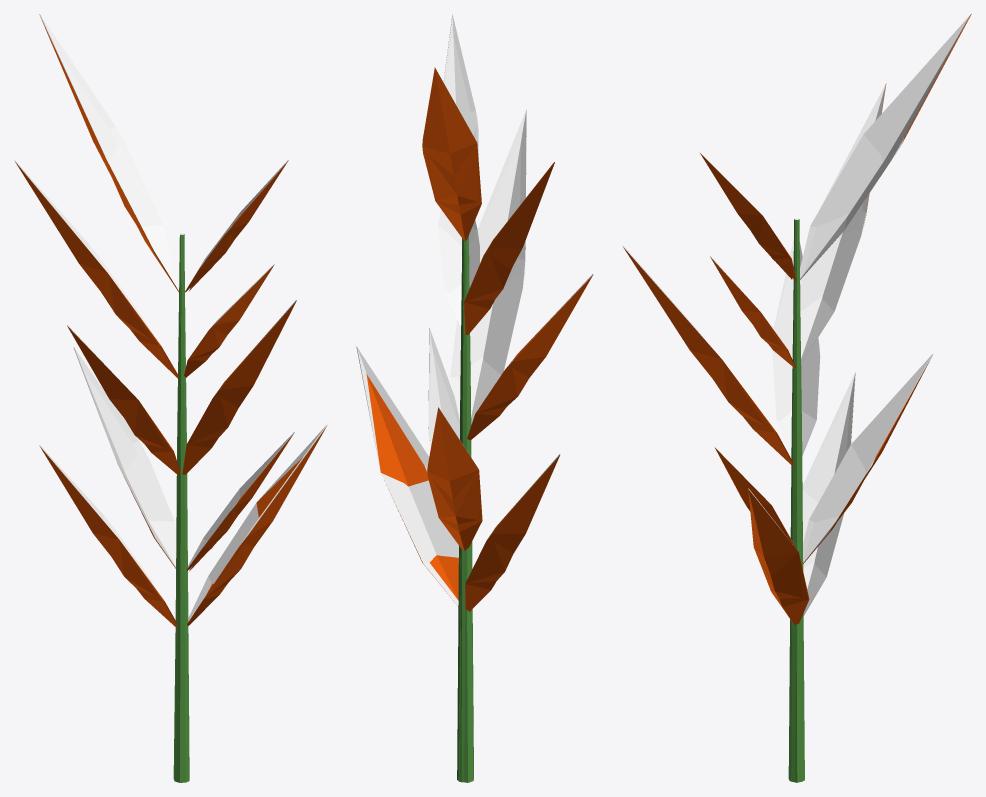
The model's file is V18_Herb_2_Snowy.fbx.
3 views of the same model, side by side, from view 1: azimuth 30°, elevation 25°; view 2: azimuth 150°, elevation 25°; view 3: azimuth 270°, elevation 25° (orthographic). The views are drawn at different scales.
Visible parts, largest first — view 1: V18 Herb 2_LOD0_Snowy, V18 Herb 2_LOD2_Snowy, V18 Herb 2_LOD3_Snowy, V18 Herb 2_LOD1_Snowy; view 2: V18 Herb 2_LOD0_Snowy, V18 Herb 2_LOD3_Snowy, V18 Herb 2_LOD2_Snowy, V18 Herb 2_LOD1_Snowy; view 3: V18 Herb 2_LOD0_Snowy, V18 Herb 2_LOD3_Snowy, V18 Herb 2_LOD2_Snowy, V18 Herb 2_LOD1_Snowy.
Part boxes in pixels (box(x1,y1,x2,y2)): V18 Herb 2_LOD0_Snowy: box(14, 14, 326, 782); V18 Herb 2_LOD2_Snowy: box(99, 146, 277, 779); V18 Herb 2_LOD3_Snowy: box(54, 45, 302, 599); V18 Herb 2_LOD1_Snowy: box(173, 160, 327, 782); V18 Herb 2_LOD0_Snowy: box(356, 14, 592, 782); V18 Herb 2_LOD3_Snowy: box(366, 119, 592, 600); V18 Herb 2_LOD2_Snowy: box(408, 32, 521, 781); V18 Herb 2_LOD1_Snowy: box(381, 68, 593, 782); V18 Herb 2_LOD0_Snowy: box(622, 15, 969, 782); V18 Herb 2_LOD3_Snowy: box(712, 36, 957, 611); V18 Herb 2_LOD2_Snowy: box(750, 152, 894, 576); V18 Herb 2_LOD1_Snowy: box(742, 14, 971, 782).
Bounding box in the file's own units: 24.95 × 69.47 × 29.88.
